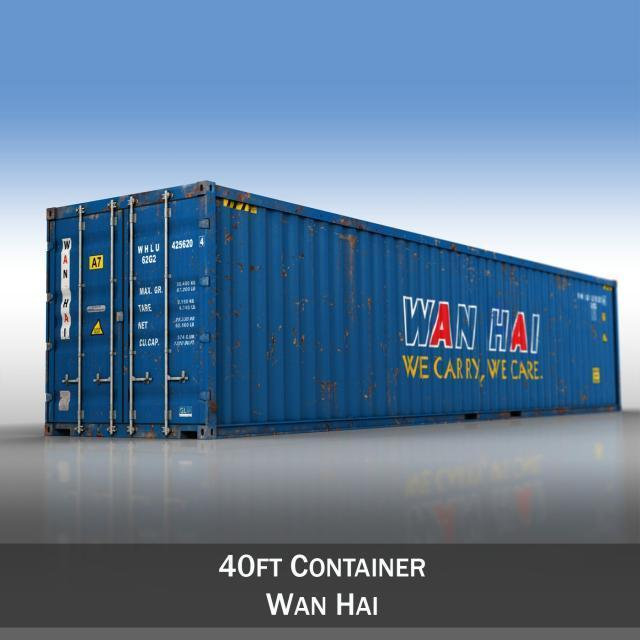container_number_h: (134, 234, 207, 265)
